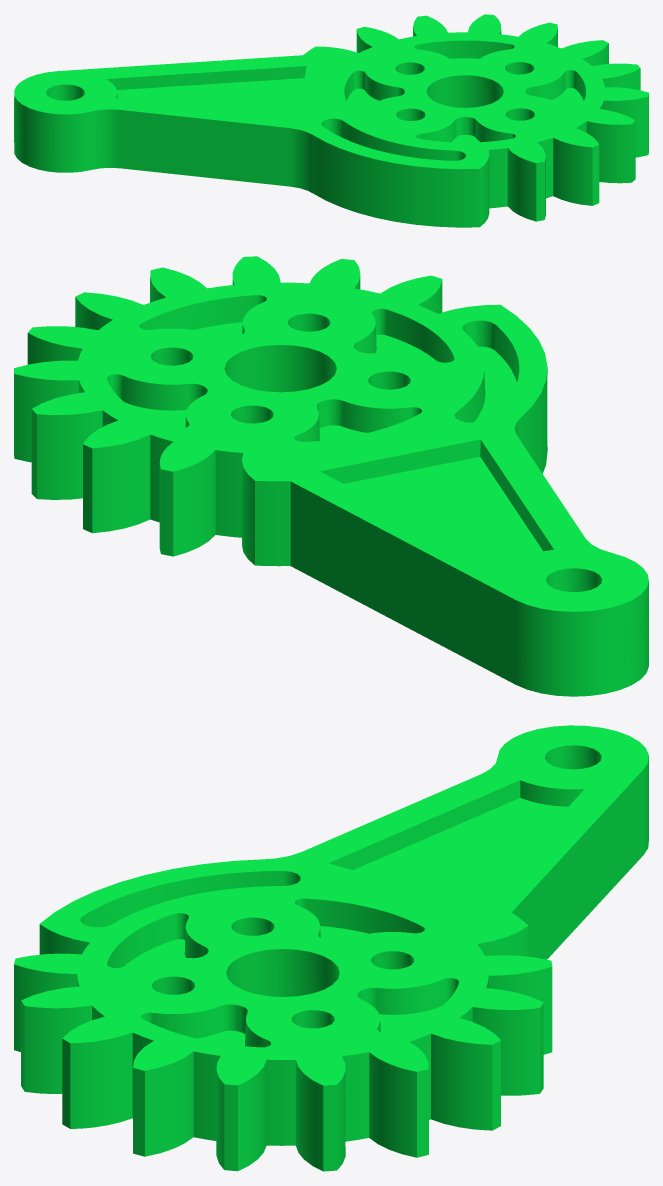
File: gripper_left3.dae
3 views of the same model, one above another, from view 1: azimuth 30°, elevation 25°; view 2: azimuth 150°, elevation 25°; view 3: azimuth 270°, elevation 25° (orthographic). The views are drawn at different scales.
Parts seen in each view (by area): view 1: Brep; view 2: Brep; view 3: Brep.
Part boxes in pixels (<box>): Brep: <box>14,14,648,227</box>; Brep: <box>14,256,648,696</box>; Brep: <box>14,725,648,1171</box>.
Bounding box in the file's own units: 45.03 × 33.53 × 5.
